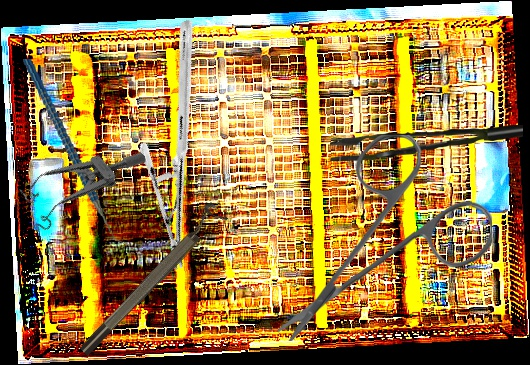Chopper: (22, 48, 133, 256)
Fixation Ring: (70, 199, 230, 360)
Iris Scissors: (278, 133, 494, 345)
Needle Holder: (73, 17, 291, 273)
Speculum: (9, 115, 148, 243)
Tissue Forceps: (330, 121, 523, 165)
